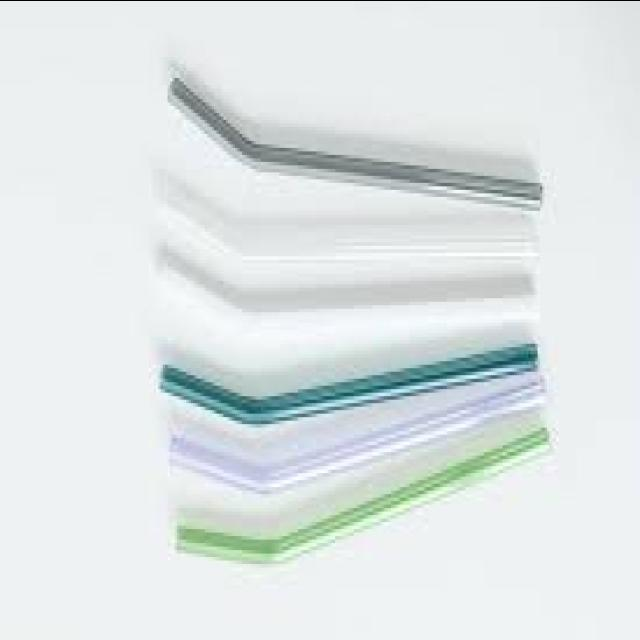straw: (175, 426, 548, 560), (167, 77, 541, 203), (170, 378, 543, 492), (159, 344, 537, 425)
